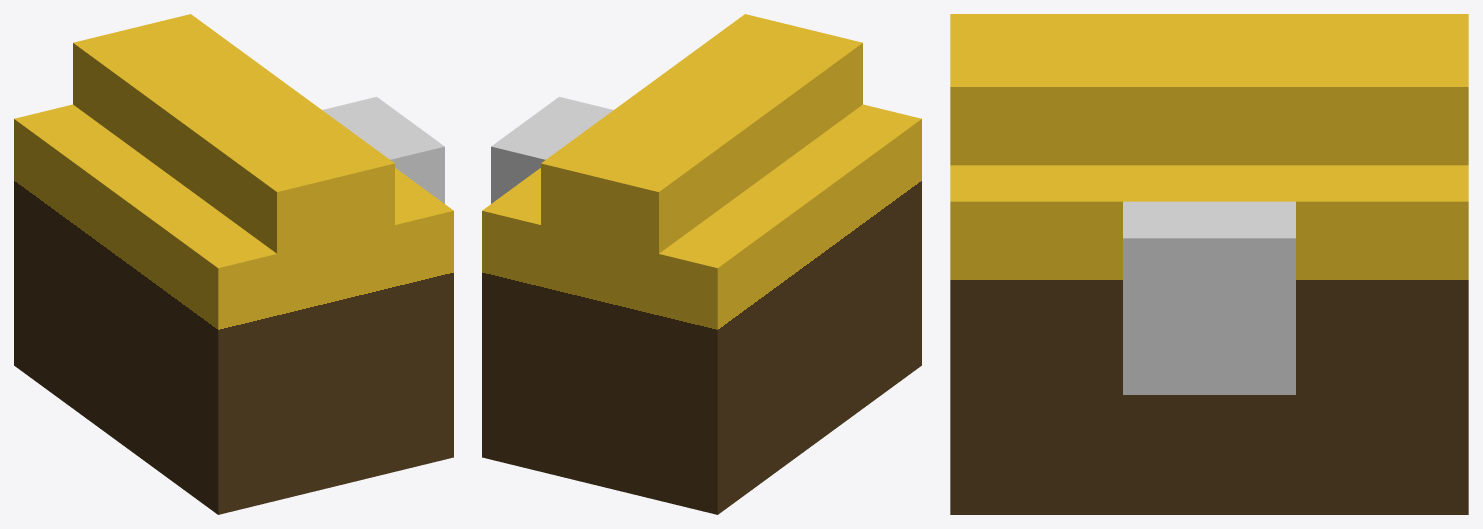
Rendered from chest.glb.
3 renders of one model, left to right at view 1: azimuth 30°, elevation 25°; view 2: azimuth 150°, elevation 25°; view 3: azimuth 270°, elevation 25°, orthographic. The views are drawn at different scales.
Visible parts, largest first — view 1: pl0; view 2: pl0; view 3: pl0.
Part boxes in pixels (<box>): pl0: <box>14,14,453,514</box>; pl0: <box>482,14,921,514</box>; pl0: <box>950,14,1468,514</box>.
Size of the model in its own units: 5 by 5 by 6.
Materials: 1 (1 with a texture image).
